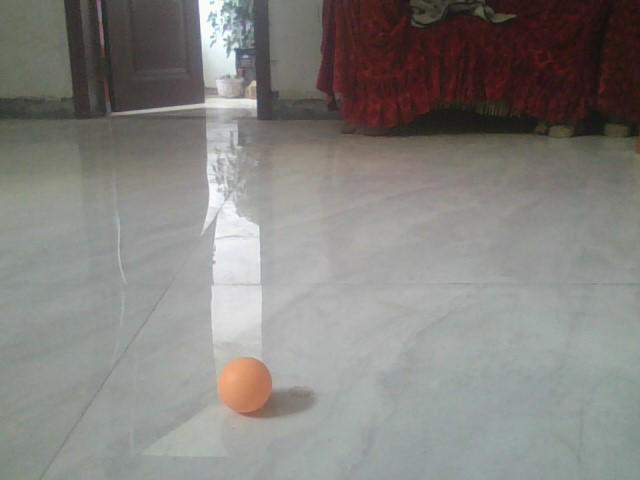ball: (218, 359, 272, 412)
